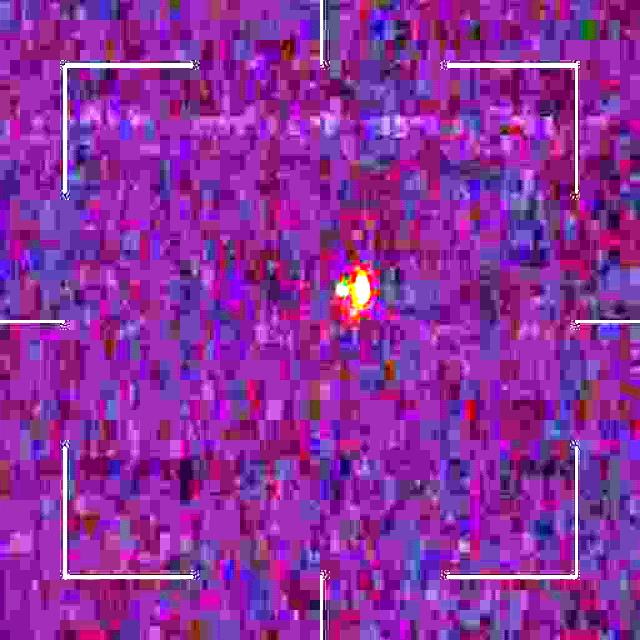bird: (338, 270, 371, 319)
